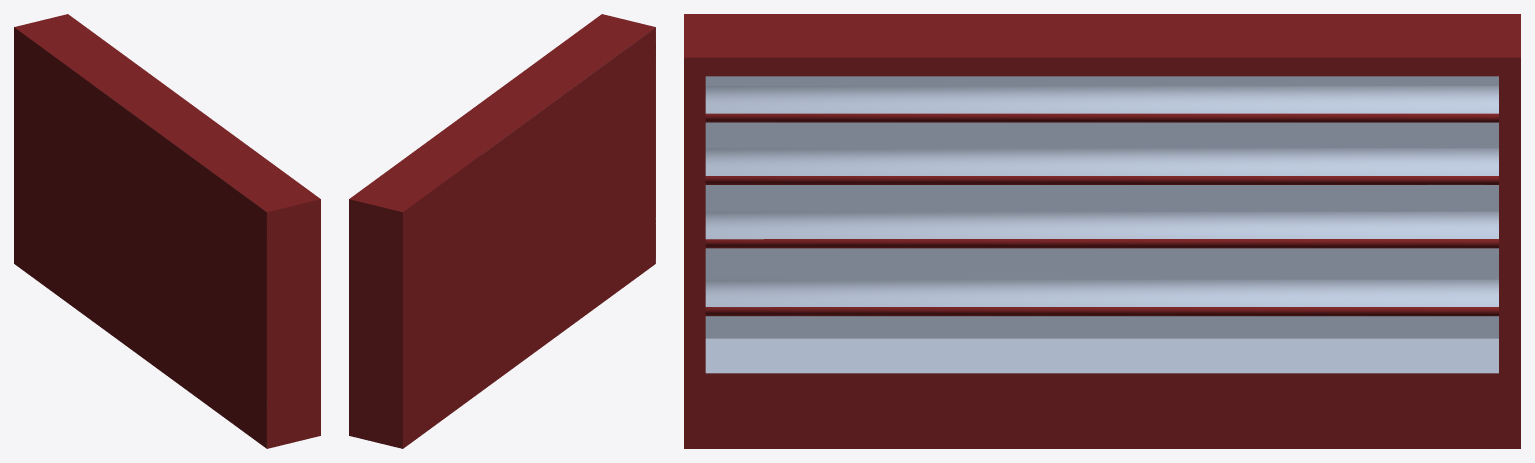
File: heladera-larga.glb
3 renders of one model, left to right at view 1: azimuth 30°, elevation 25°; view 2: azimuth 150°, elevation 25°; view 3: azimuth 270°, elevation 25°, orthographic. The views are drawn at different scales.
Parts seen in each view (by area): view 1: Heladera; view 2: Heladera; view 3: Heladera, Estantes.
Boxes of the visible parts, <box> form: Heladera: <box>14,14,320,448</box>; Heladera: <box>349,14,655,448</box>; Heladera: <box>684,14,1520,448</box>; Estantes: <box>705,86,1498,316</box>.
Size of the model in its own units: 2 by 8.38 by 16.24.
Materials: 2 (2 with a texture image).
